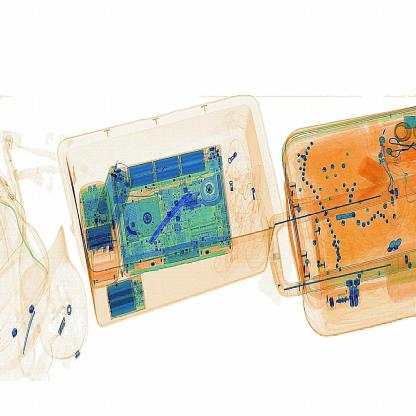pliers: (147, 179, 202, 252)
